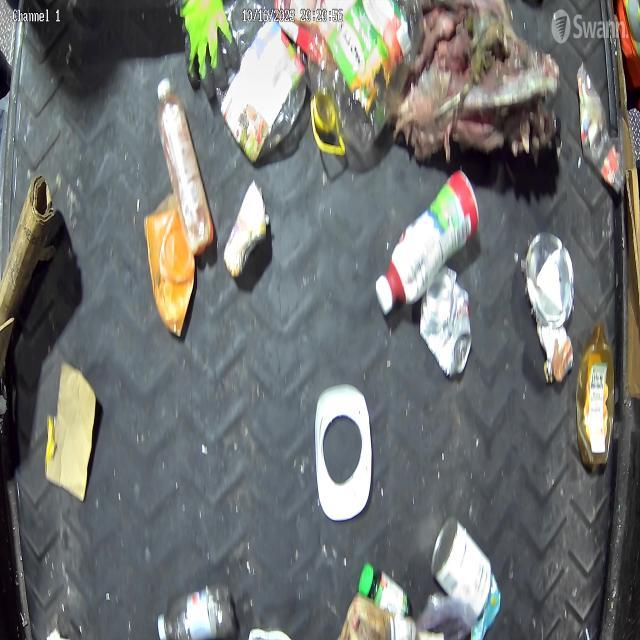can: (430, 516, 492, 622), (420, 266, 473, 379), (224, 180, 268, 280)
non_white_jug: (576, 322, 615, 467)
plastic_bottle: (157, 582, 235, 640)
